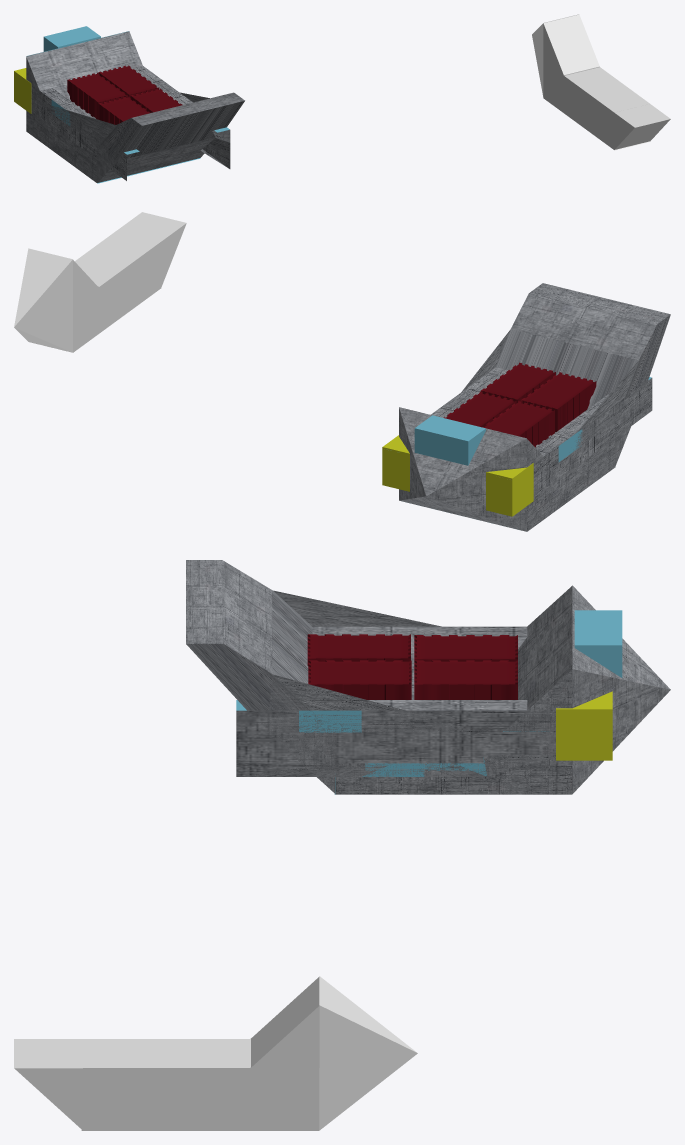
The model's file is Буксир c4d.fbx.
3 views of the same model, one above another, from view 1: azimuth 30°, elevation 25°; view 2: azimuth 150°, elevation 25°; view 3: azimuth 270°, elevation 25° (orthographic). The views are drawn at different scales.
Parts seen in each view (by area): view 1: Булев_2, Объект_Куб_2_4, Объект_Куб_2_3, Объект_Куб_4, Объект_Куб_1_2, Объект_Куб, Объект_Куб_5, Объект_Куб_6, Объект_Куб_3, Объект_Куб_2_2, Объект_Куб_2, Объект_Пирамида (+1 smaller); view 2: Булев_2, Объект_Куб_2_4, Объект_Пирамида, Объект_Куб_6, Объект_Куб_5, Объект_Куб_2, Объект_Куб_4, Объект_Куб_1_2, Объект_Куб_3, Объект_Куб, Объект_Куб_1, Объект_Куб_1_3; view 3: Булев_2, Объект_Куб_2_4, Объект_Пирамида, Объект_Куб_1_2, Объект_Куб, Объект_Куб_3, Объект_Куб_1, Объект_Куб_5, Объект_Куб_4, Объект_Куб_6, Объект_Куб_1_3, Объект_Куб_2_3.
Boxes of the visible parts, left/top/right/bottom form: Булев_2: left=26, top=31, right=244, bottom=183; Объект_Куб_2_4: left=543, top=61, right=649, bottom=149; Объект_Куб_2_3: left=543, top=14, right=599, bottom=74; Объект_Куб_4: left=67, top=73, right=127, bottom=119; Объект_Куб_1_2: left=614, top=104, right=670, bottom=149; Объект_Куб: left=98, top=65, right=159, bottom=97; Объект_Куб_5: left=98, top=96, right=150, bottom=124; Объект_Куб_6: left=43, top=26, right=100, bottom=51; Объект_Куб_3: left=130, top=88, right=182, bottom=112; Объект_Куб_2_2: left=614, top=119, right=670, bottom=150; Объект_Куб_2: left=14, top=68, right=31, bottom=113; Объект_Пирамида: left=532, top=14, right=578, bottom=96; Булев_2: left=399, top=283, right=670, bottom=531; Объект_Куб_2_4: left=73, top=231, right=161, bottom=352; Объект_Пирамида: left=14, top=248, right=72, bottom=352; Объект_Куб_6: left=414, top=415, right=485, bottom=465; Объект_Куб_5: left=520, top=372, right=596, bottom=431; Объект_Куб_2: left=486, top=463, right=533, bottom=516; Объект_Куб_4: left=482, top=401, right=554, bottom=447; Объект_Куб_1_2: left=117, top=212, right=186, bottom=286; Объект_Куб_3: left=480, top=362, right=555, bottom=402; Объект_Куб: left=444, top=391, right=516, bottom=427; Объект_Куб_1: left=382, top=435, right=409, bottom=491; Объект_Куб_1_3: left=73, top=260, right=98, bottom=305; Булев_2: left=186, top=560, right=670, bottom=794; Объект_Куб_2_4: left=83, top=1039, right=319, bottom=1130; Объект_Пирамида: left=319, top=976, right=417, bottom=1130; Объект_Куб_1_2: left=14, top=1039, right=82, bottom=1130; Объект_Куб: left=414, top=660, right=517, bottom=699; Объект_Куб_3: left=308, top=660, right=411, bottom=699; Объект_Куб_1: left=556, top=691, right=612, bottom=760; Объект_Куб_5: left=307, top=634, right=410, bottom=665; Объект_Куб_4: left=414, top=635, right=517, bottom=661; Объект_Куб_6: left=574, top=610, right=622, bottom=677; Объект_Куб_1_3: left=250, top=1006, right=319, bottom=1067; Объект_Куб_2_3: left=250, top=977, right=319, bottom=1067.
Size of the model in its own units: 2655 by 582 by 1897.
4 materials, 1 textured.
